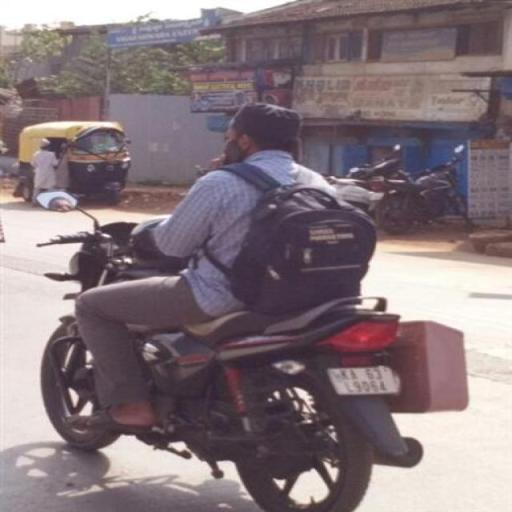using mobile: (217, 137, 249, 168)
